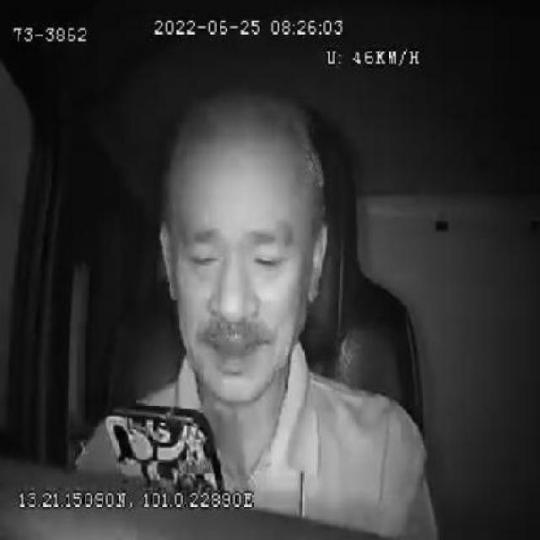phone: (102, 402, 222, 490)
